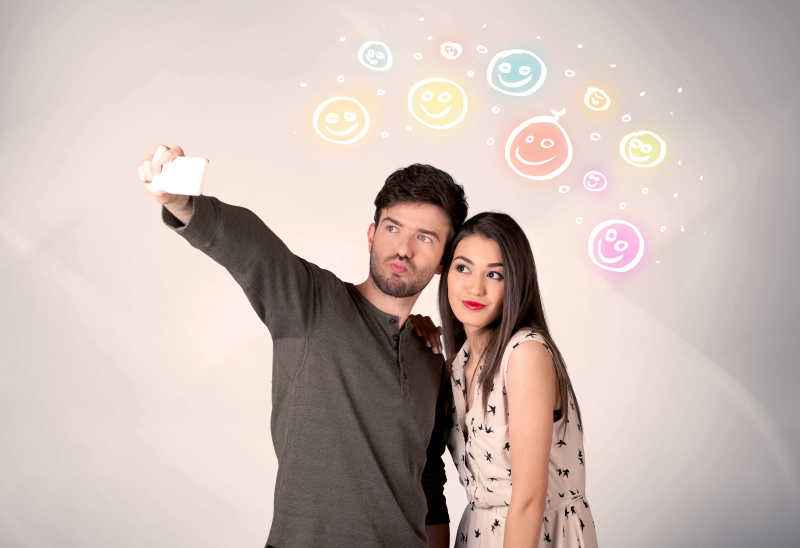taking photos: (134, 141, 213, 211)
